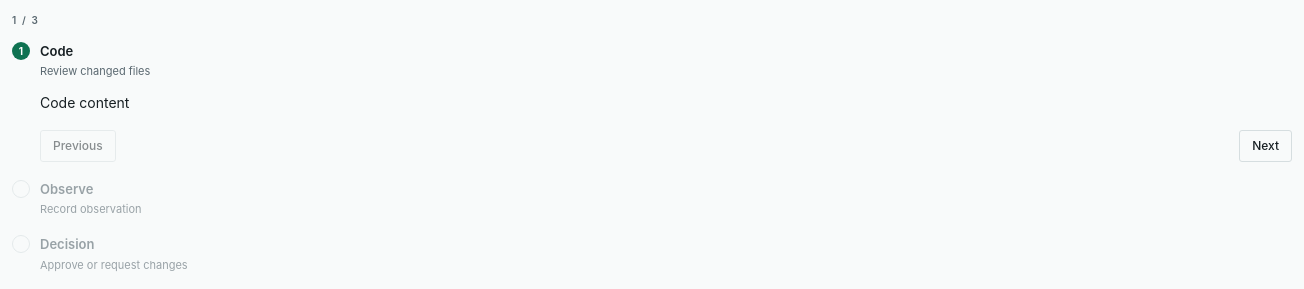
Test case: VerificationReviewStepper › renders a visited state without a success check when navigation has no evidence
What coordinates should you click on to do the following:
click the button with test id "verification-stepper-next"
I would click on:
 (1266, 146)
Its box is [1239,130,1292,162].
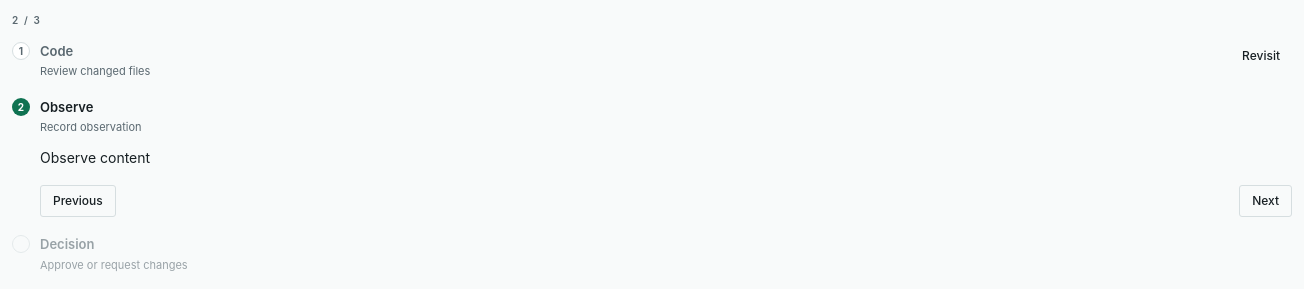
Expected: the button with test id "verification-stepper-revisit-code" is shown, [1230,40,1292,72]
